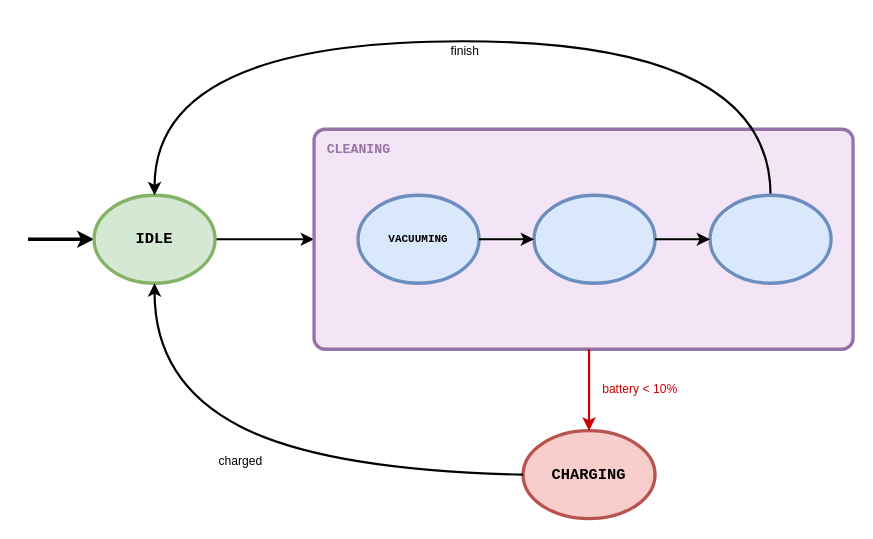
This 873x539 diagram has some shape labels left out. Here are the shapes that lost their labels. From the top down, the box of each, then its label:
(532, 193, 656, 284): MOPPING
(708, 193, 832, 284): DRYING
